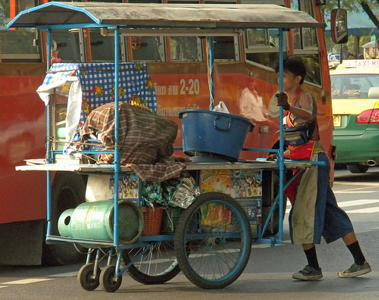person: (257, 55, 373, 283)
